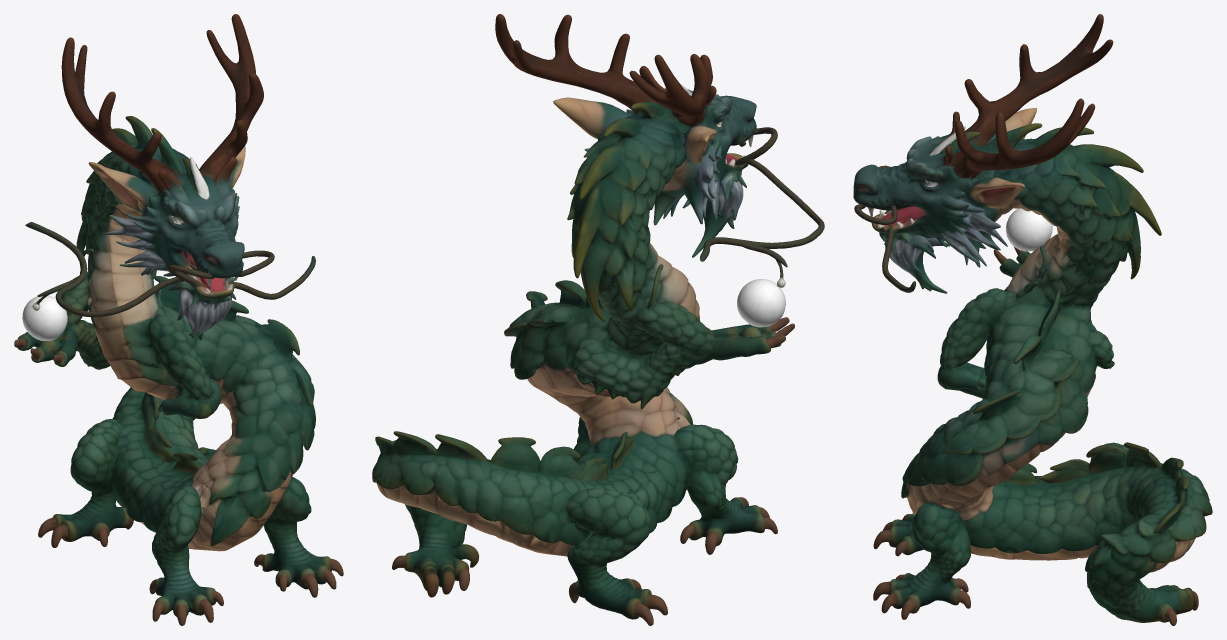
Rendered from detail_14.glb.
3 views of the same model, side by side, from view 1: azimuth 30°, elevation 25°; view 2: azimuth 150°, elevation 25°; view 3: azimuth 270°, elevation 25° (orthographic). The views are drawn at different scales.
Bounding box in the file's own units: 0.6496 × 0.9881 × 0.6141.
1 material, 1 textured.
